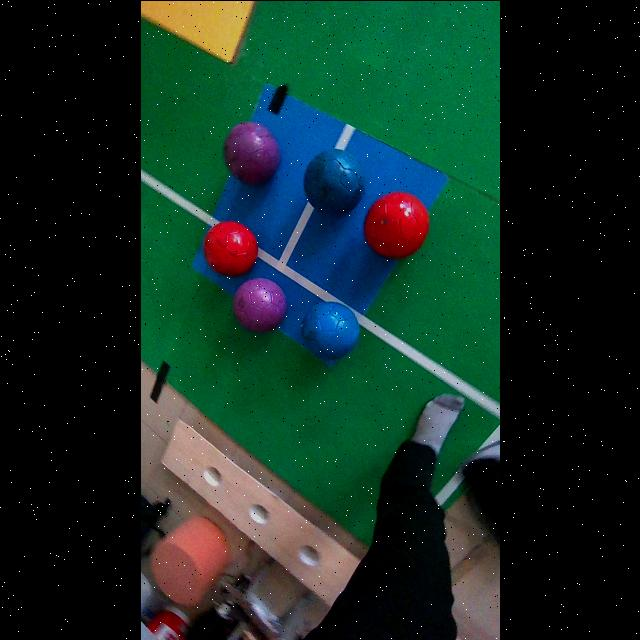B: (303, 148, 364, 214), (301, 301, 359, 359)
P: (223, 122, 280, 184), (232, 276, 286, 331)
R: (363, 190, 428, 258), (202, 219, 257, 275)
